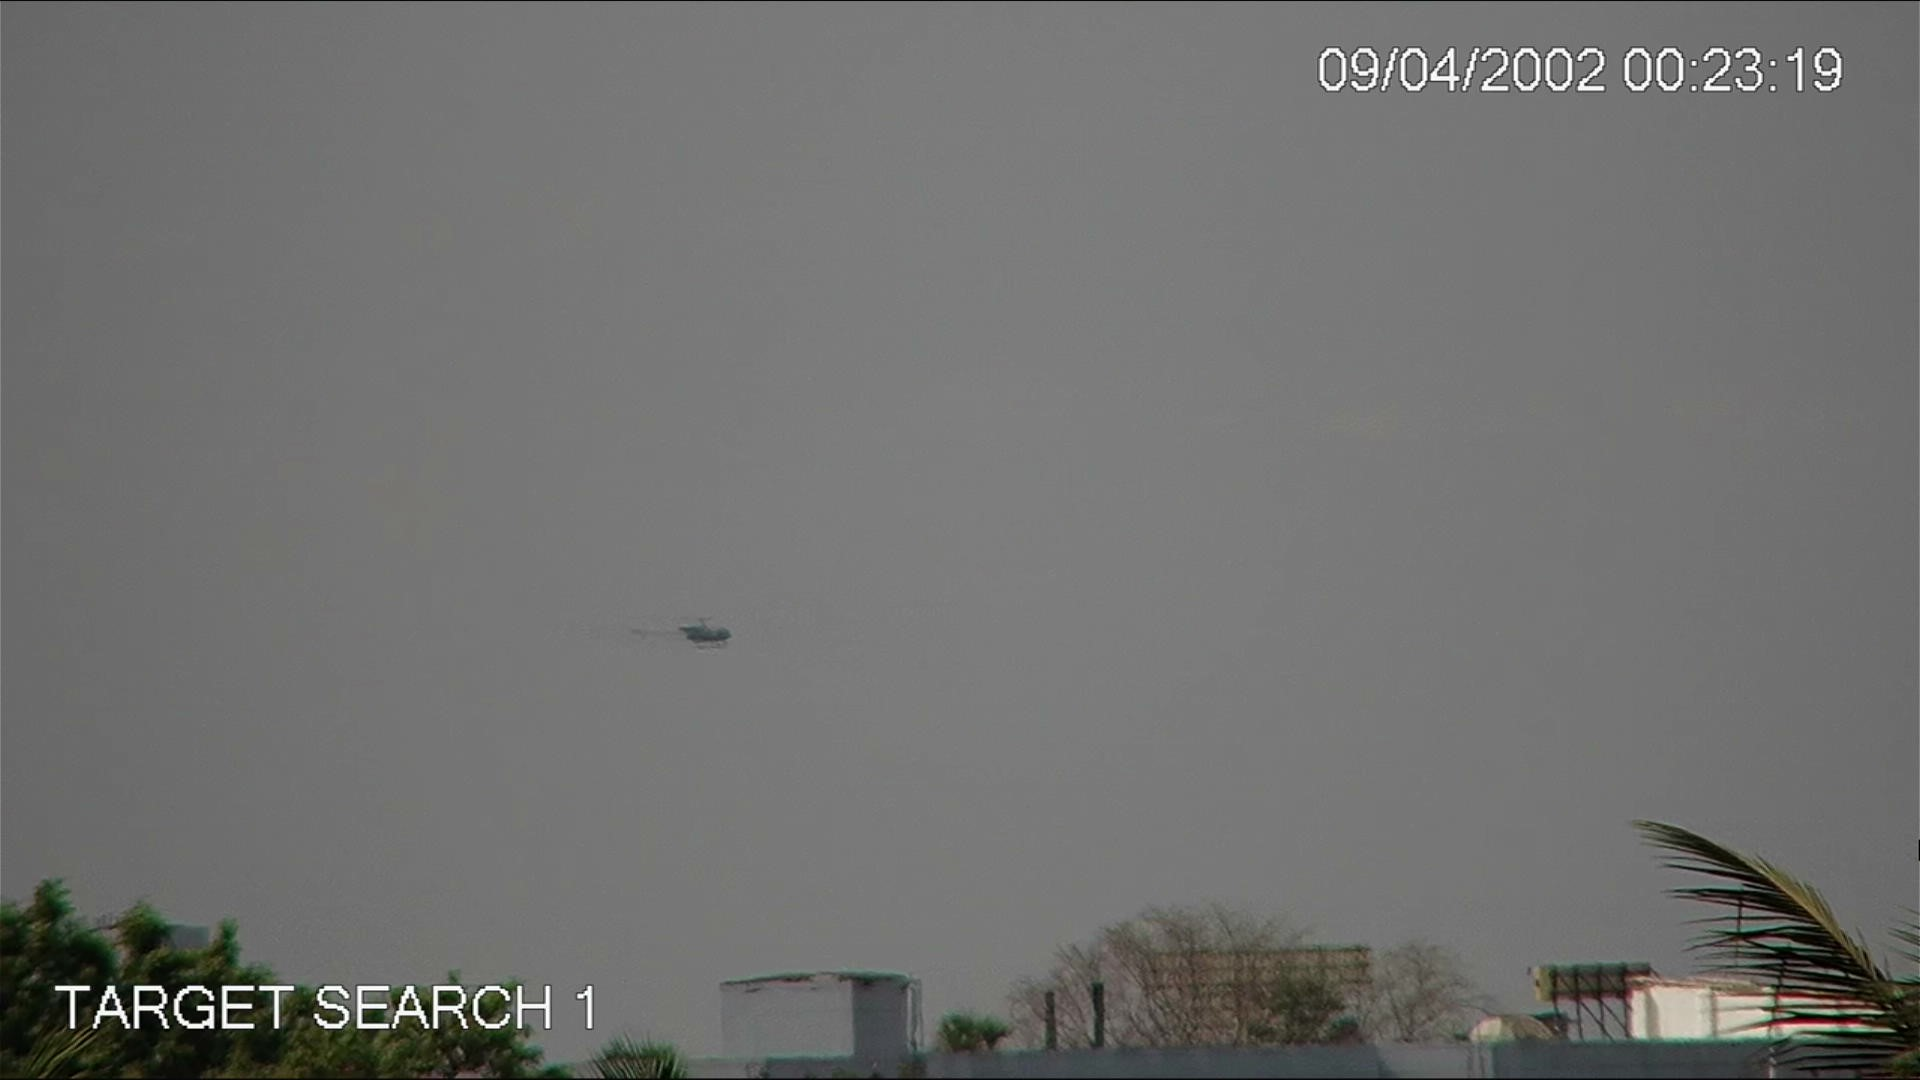SU_30: (622, 616, 735, 655)
